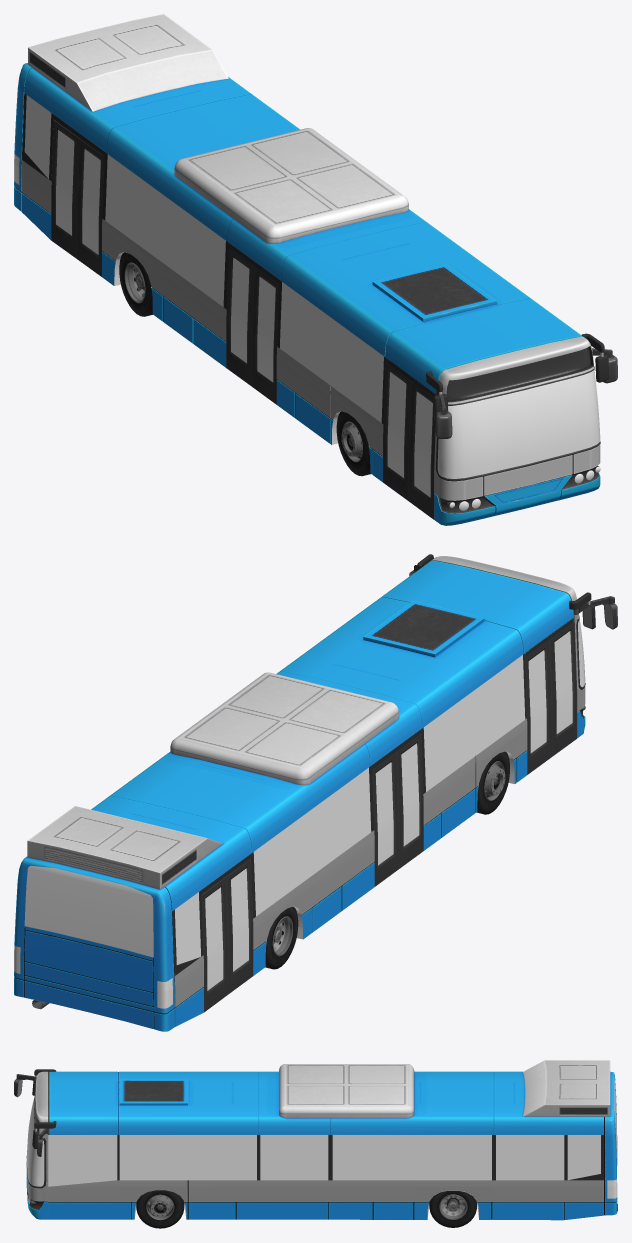
Rendered from Bus 2.fbx.
The picture shows the model from 3 angles, top to bottom: view 1: azimuth 30°, elevation 25°; view 2: azimuth 150°, elevation 25°; view 3: azimuth 270°, elevation 25°; orthographic projection. The views are drawn at different scales.
Visible parts, largest first — view 1: exterior, windows, door5, door1, door3, door6, door2, door4, door_gl2, door_gl1, door_gl5, door_gl3 (+6 smaller); view 2: exterior, windows, door2, door4, door5, door6, door1, door3, door_gl2, door_gl1, door_gl3, door_gl6 (+4 smaller); view 3: exterior, windows, wheel, wheel_3, side_mirro.
Part boxes in pixels (x1=…): exterior: x1=14, y1=14, x2=617, y2=525; windows: x1=24, y1=95, x2=600, y2=478; door5: x1=76, y1=138, x2=104, y2=276; door1: x1=408, y1=381, x2=435, y2=519; door3: x1=251, y1=266, x2=279, y2=404; door6: x1=51, y1=120, x2=78, y2=258; door2: x1=383, y1=362, x2=410, y2=500; door4: x1=226, y1=248, x2=253, y2=386; door_gl2: x1=387, y1=372, x2=406, y2=477; door_gl1: x1=414, y1=391, x2=432, y2=497; door_gl5: x1=82, y1=149, x2=100, y2=254; door_gl3: x1=257, y1=277, x2=275, y2=382; exterior: x1=14, y1=556, x2=617, y2=1031; windows: x1=24, y1=619, x2=585, y2=964; door2: x1=525, y1=640, x2=552, y2=774; door4: x1=372, y1=752, x2=399, y2=886; door5: x1=226, y1=859, x2=253, y2=993; door6: x1=201, y1=877, x2=228, y2=1012; door1: x1=549, y1=621, x2=576, y2=756; door3: x1=396, y1=734, x2=423, y2=868; door_gl2: x1=528, y1=650, x2=546, y2=753; door_gl1: x1=554, y1=631, x2=572, y2=733; door_gl3: x1=401, y1=743, x2=419, y2=846; door_gl6: x1=205, y1=887, x2=223, y2=990; exterior: x1=14, y1=1060, x2=617, y2=1220; windows: x1=26, y1=1077, x2=616, y2=1186; wheel: x1=136, y1=1190, x2=184, y2=1228; wheel_3: x1=429, y1=1190, x2=476, y2=1227; side_mirro: x1=32, y1=1069, x2=56, y2=1148.
Size of the model in its own units: 120 by 106 by 473.
Materials: 17 (14 with a texture image).
